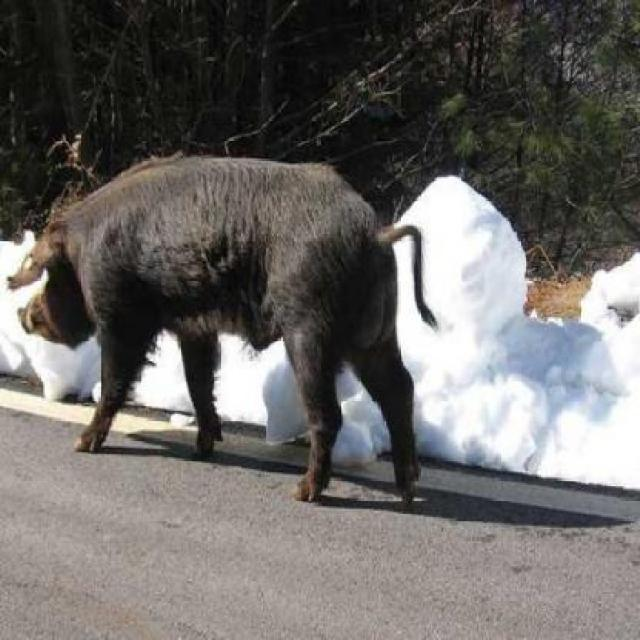pig: (11, 85, 484, 483)
